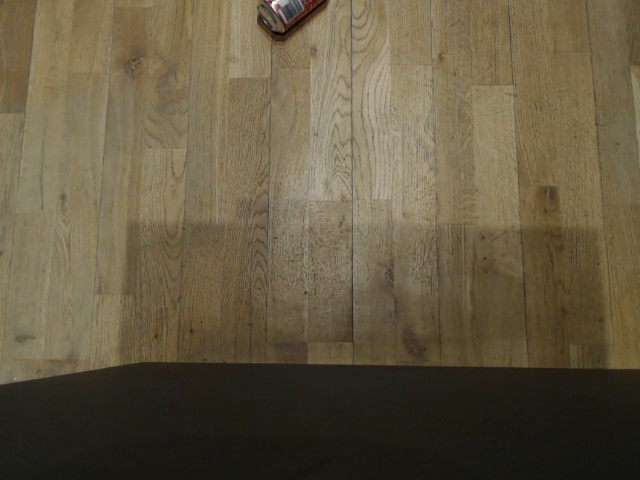cola: (256, 0, 329, 35)
